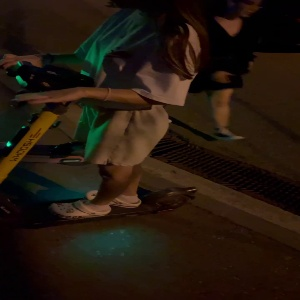human on a scooter: (1, 1, 206, 232)
